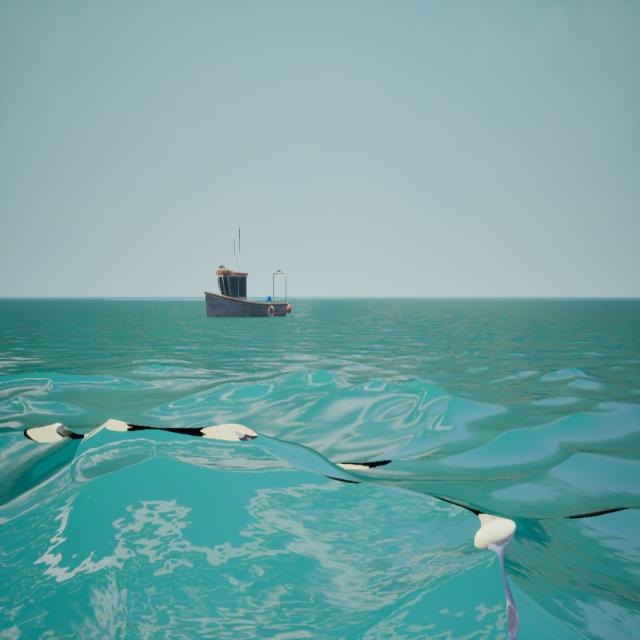ship: (200, 215, 301, 341)
